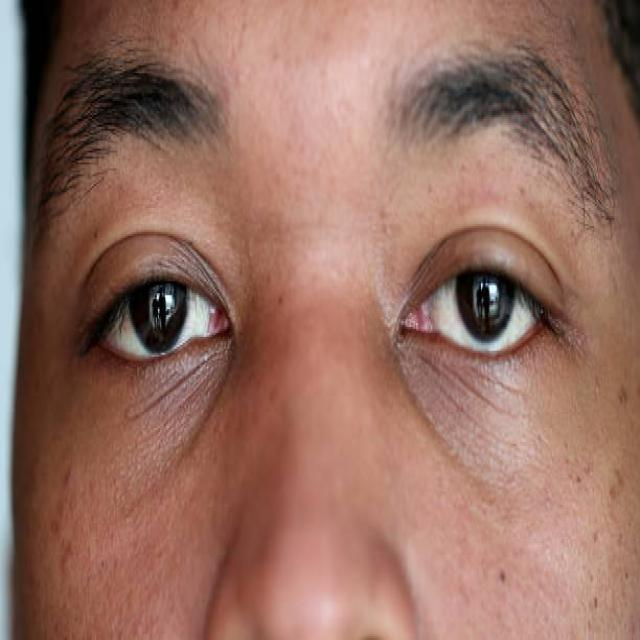low: (84, 357, 222, 433), (396, 337, 462, 409)
